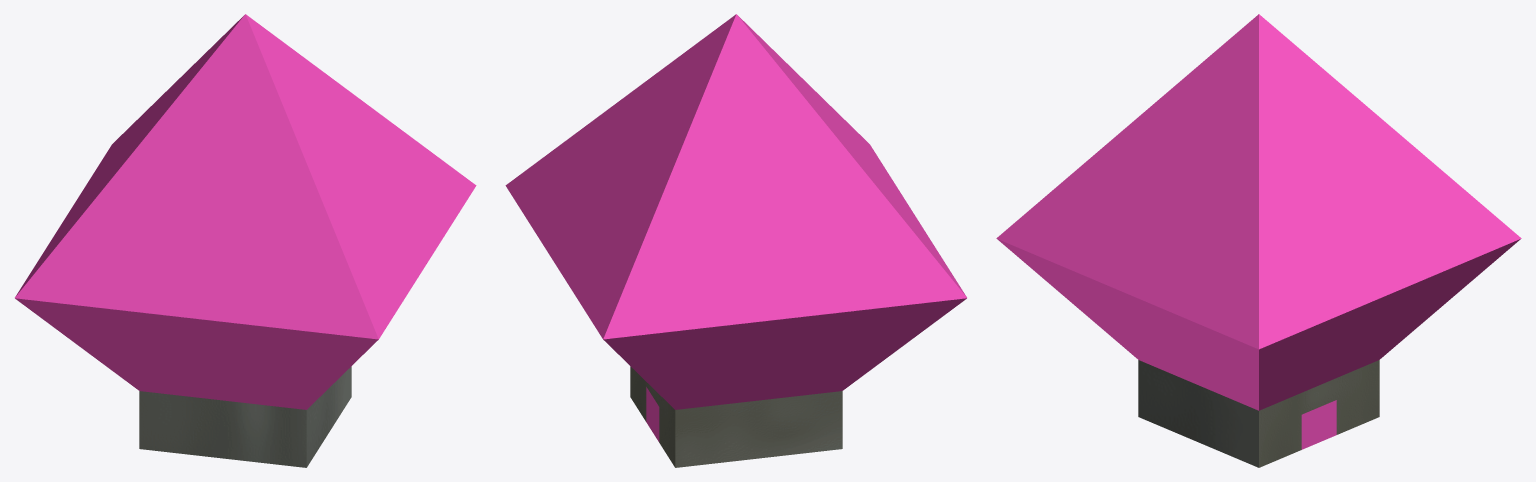
File: Diamond Building LP.FBX
3 views of the same model, side by side, from view 1: azimuth 30°, elevation 25°; view 2: azimuth 150°, elevation 25°; view 3: azimuth 270°, elevation 25° (orthographic).
Parts seen in each view (by area): view 1: Diamond Building LP; view 2: Diamond Building LP; view 3: Diamond Building LP.
Part boxes in pixels (bbox=[...]): Diamond Building LP: bbox=[15, 14, 476, 467]; Diamond Building LP: bbox=[505, 14, 966, 467]; Diamond Building LP: bbox=[996, 14, 1521, 467].
Size of the model in its own units: 255 by 215 by 255.
Materials: 1 (1 with a texture image).
